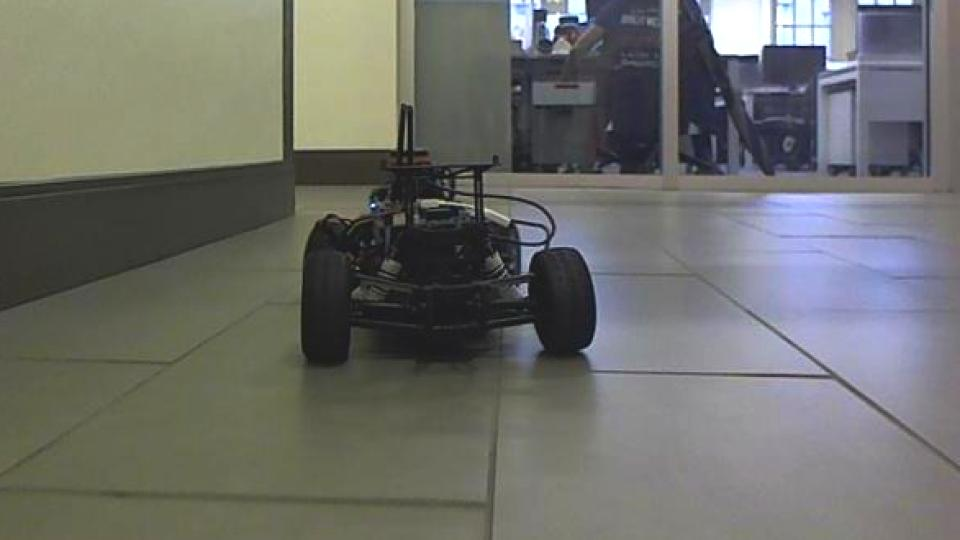car: (297, 102, 601, 367)
